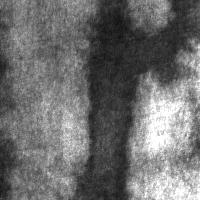patches: (29, 0, 185, 108), (72, 1, 144, 199), (146, 1, 200, 83)
